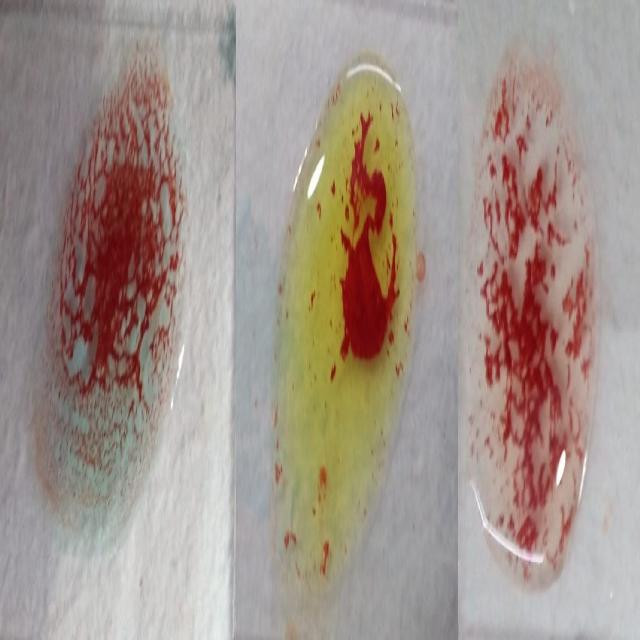A: (28, 36, 189, 548)
B: (273, 52, 418, 600)
D: (465, 56, 595, 591)
